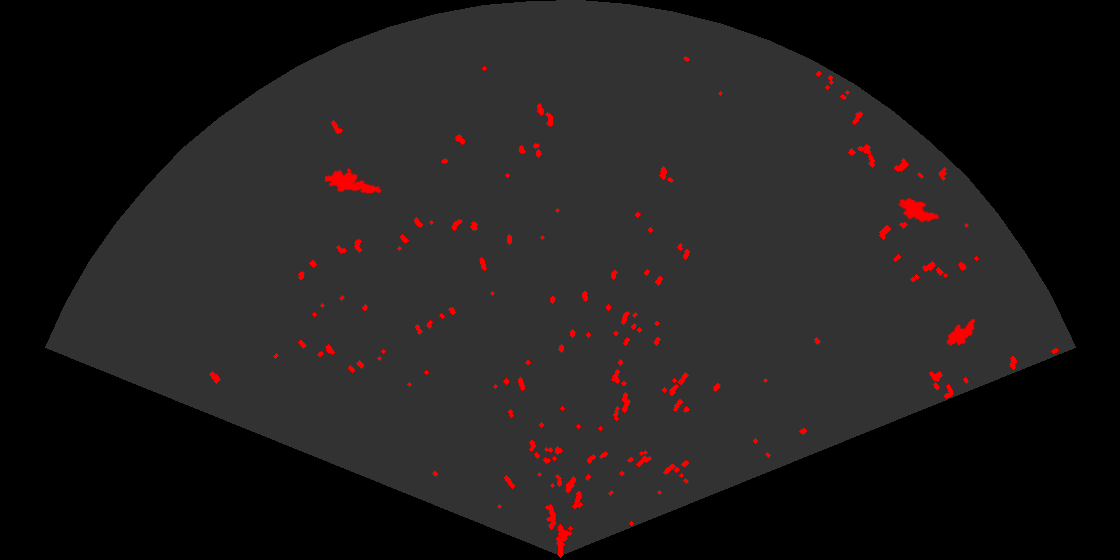AUV: (897, 196, 941, 224), (945, 317, 977, 348)
frogman: (325, 166, 383, 195)
